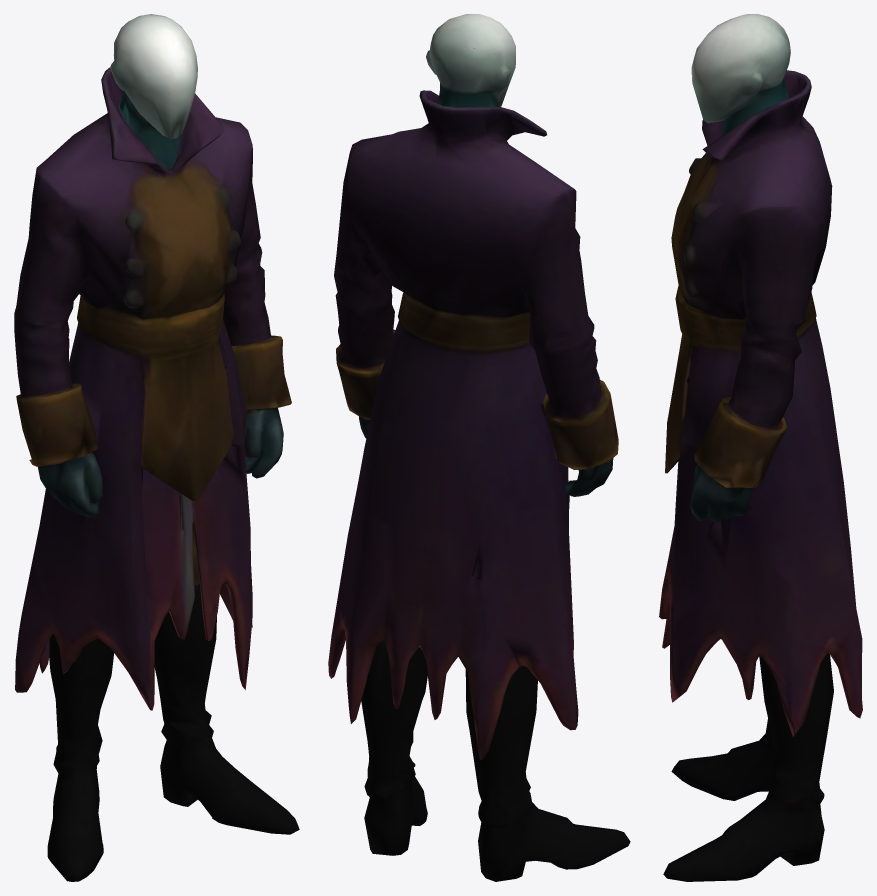
Rendered from shade.glb.
3 renders of one model, left to right at view 1: azimuth 30°, elevation 25°; view 2: azimuth 150°, elevation 25°; view 3: azimuth 270°, elevation 25°, orthographic. The views are drawn at different scales.
Parts seen in each view (by area): view 1: geometry_0; view 2: geometry_0; view 3: geometry_0.
Part boxes in pixels (<box>): geometry_0: <box>14,14,299,881</box>; geometry_0: <box>328,14,630,881</box>; geometry_0: <box>659,14,862,881</box>.
Bounding box in the file's own units: 0.3376 × 1 × 0.2279.
1 material, 1 textured.
